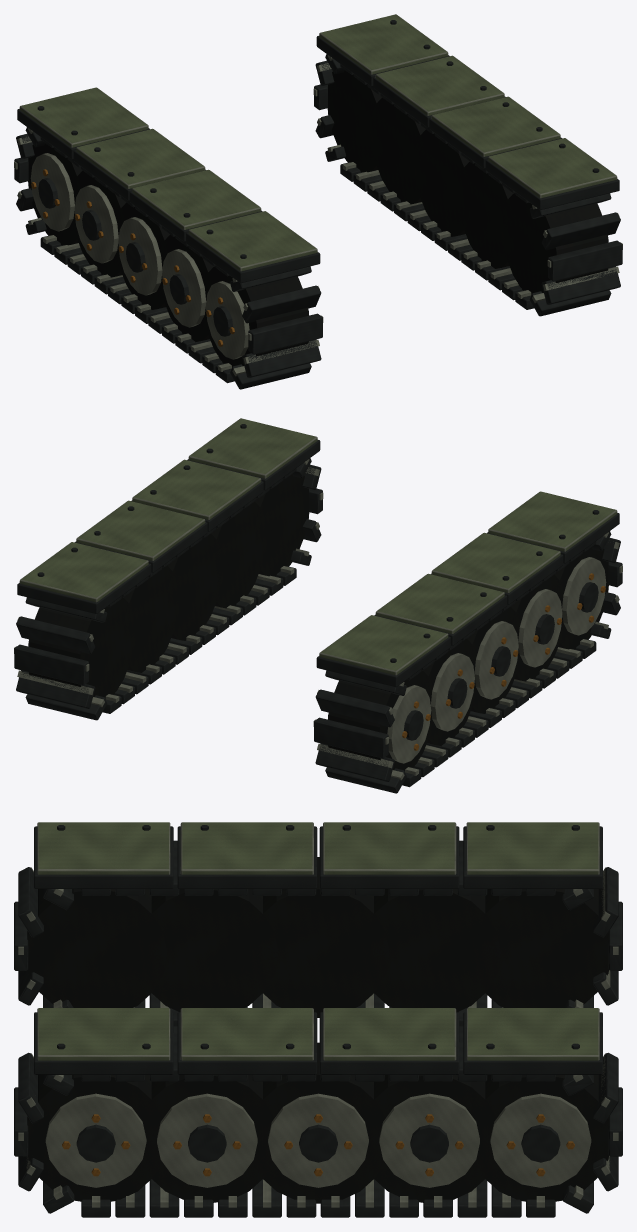
File: foundry-treads.fbx
3 views of the same model, one above another, from view 1: azimuth 30°, elevation 25°; view 2: azimuth 150°, elevation 25°; view 3: azimuth 270°, elevation 25° (orthographic). The views are drawn at different scales.
Visible parts, largest first — view 1: foundry-treads_Armor, foundry-treads_Steel, foundry-treads_Rubber, foundry-treads_Edge, foundry-treads_Brass; view 2: foundry-treads_Armor, foundry-treads_Steel, foundry-treads_Rubber, foundry-treads_Edge, foundry-treads_Brass; view 3: foundry-treads_Rubber, foundry-treads_Armor, foundry-treads_Steel, foundry-treads_Edge, foundry-treads_Brass.
Part boxes in pixels (left/top/right/bottom): foundry-treads_Armor: left=19, top=14, right=617, bottom=271; foundry-treads_Steel: left=14, top=20, right=622, bottom=389; foundry-treads_Rubber: left=28, top=70, right=608, bottom=367; foundry-treads_Edge: left=14, top=55, right=622, bottom=376; foundry-treads_Brass: left=31, top=169, right=234, bottom=346; foundry-treads_Armor: left=19, top=418, right=617, bottom=675; foundry-treads_Steel: left=14, top=424, right=622, bottom=793; foundry-treads_Rubber: left=28, top=474, right=608, bottom=771; foundry-treads_Edge: left=14, top=459, right=622, bottom=780; foundry-treads_Brass: left=402, top=573, right=605, bottom=750; foundry-treads_Rubber: left=27, top=857, right=609, bottom=1203; foundry-treads_Armor: left=37, top=822, right=599, bottom=1060; foundry-treads_Steel: left=14, top=825, right=622, bottom=1217; foundry-treads_Edge: left=18, top=867, right=618, bottom=1207; foundry-treads_Brass: left=62, top=1114, right=574, bottom=1176.
Bounding box in the file's own units: 431 × 143 × 471.
5 materials, 5 textured.
